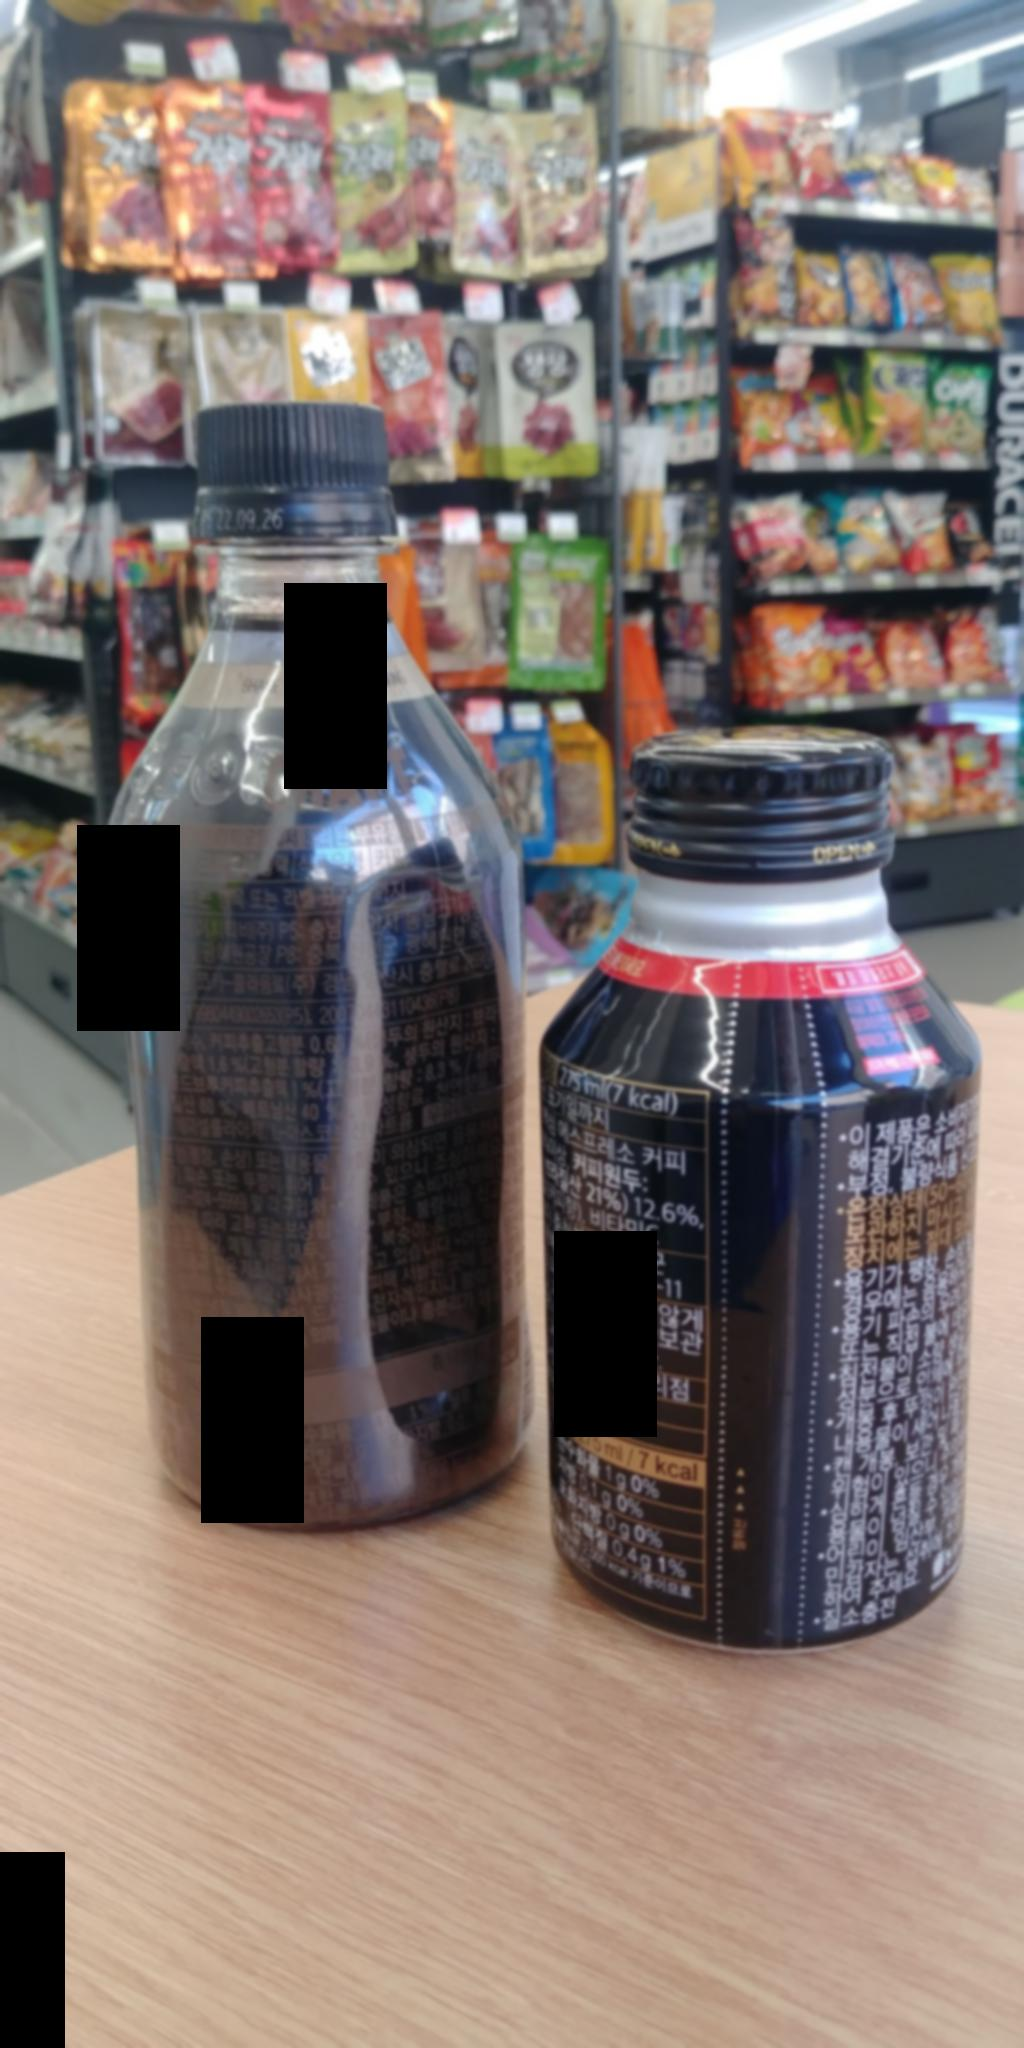TOP_black: (522, 694, 989, 1660)
georgiacraft_black: (90, 374, 536, 1540)
